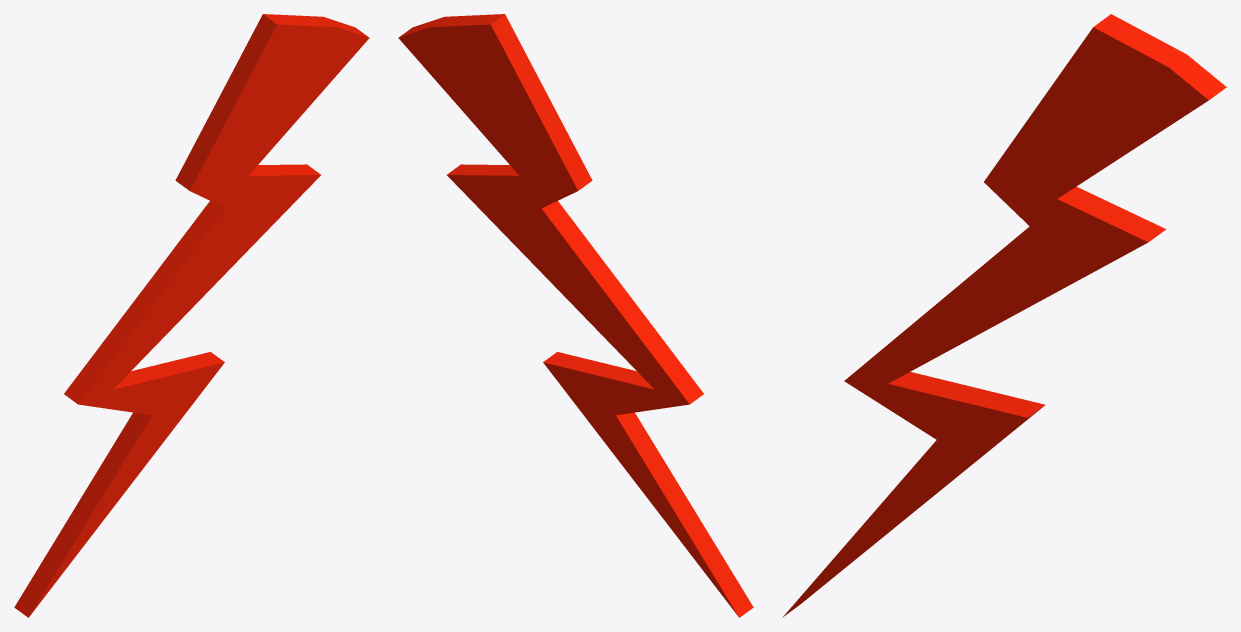
File: buff_destroy.fbx
3 renders of one model, left to right at view 1: azimuth 30°, elevation 25°; view 2: azimuth 150°, elevation 25°; view 3: azimuth 330°, elevation 25°, orthographic. The views are drawn at different scales.
Parts seen in each view (by area): view 1: Group1; view 2: Group1; view 3: Group1.
Part boxes in pixels (<box>): Group1: <box>14,14,369,617</box>; Group1: <box>398,14,753,617</box>; Group1: <box>782,14,1226,617</box>.
Size of the model in its own units: 1.22 by 1.82 by 0.0888.
